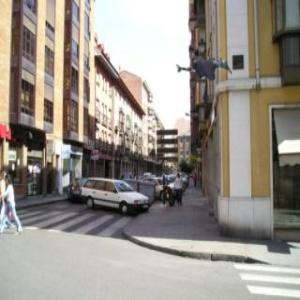drone: (156, 15, 245, 104)
